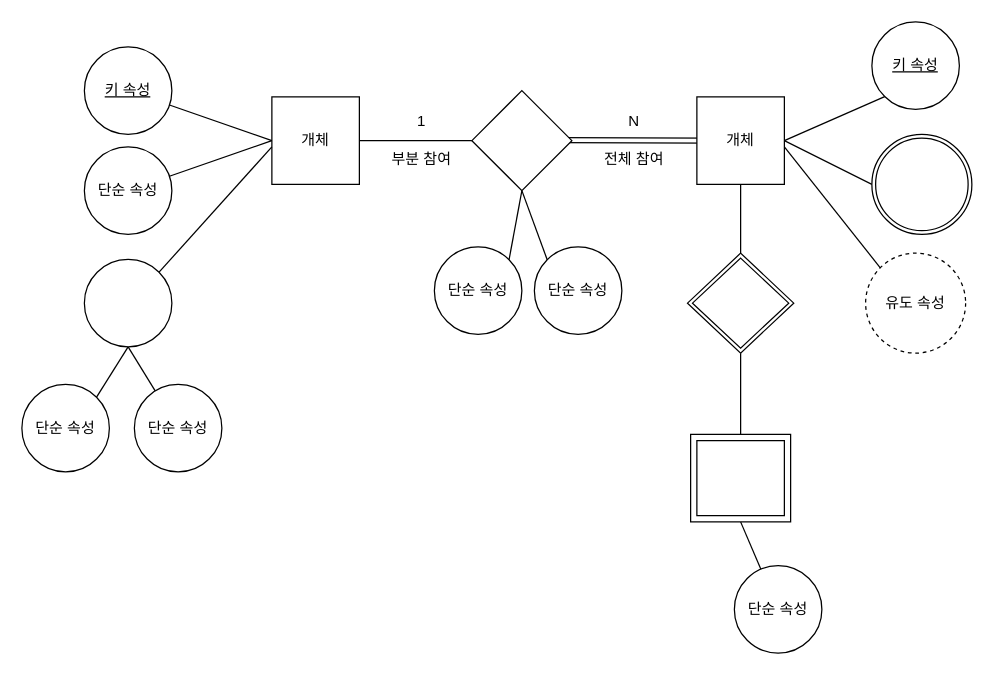
The diagram is 994 pixels wide and 675 high, and some of its shapes have lost their labels. The shapes that lost their labels are listed below. From the top down, each one's centre as x and y in pixels, then its label:
the point at 521,140: 관계 (1 대 다)
the point at 921,183: 다중값 속성 (복수전공)
the point at 127,302: 복합 속성 (생년)
the point at 740,302: 강약관계
the point at 740,477: 약한 개체
